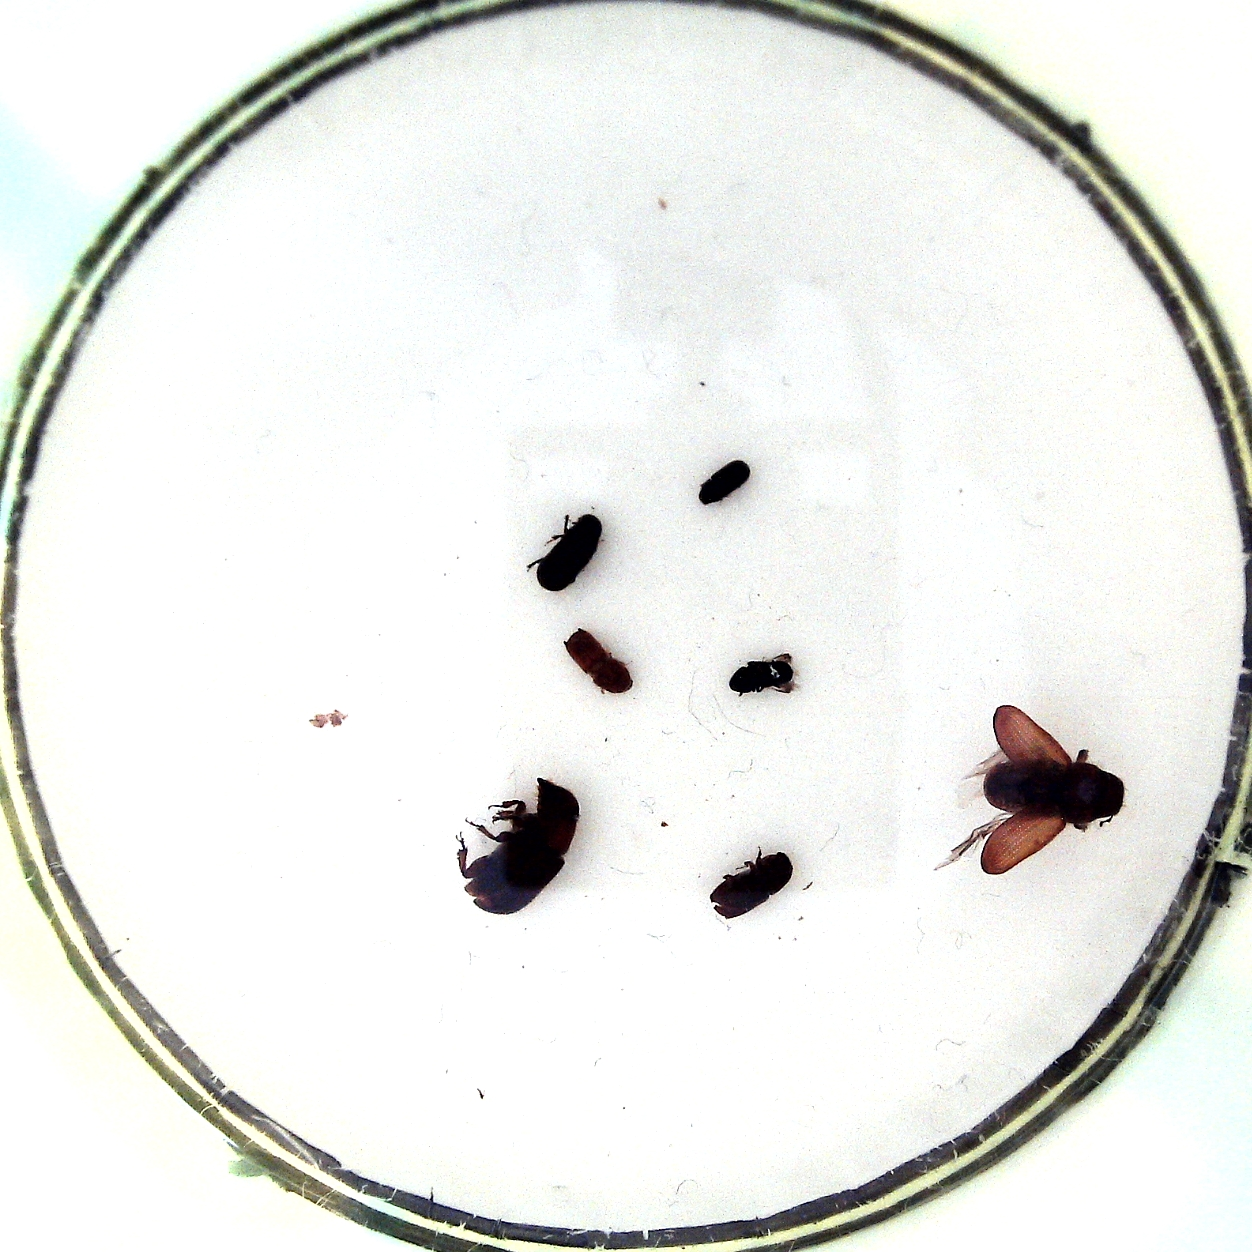Leconte: (950, 701, 1129, 873), (449, 772, 587, 916)
Linnaeus: (705, 847, 800, 921)
acuminatus: (562, 627, 639, 692)
armandi: (524, 512, 603, 593)
coleoptera: (729, 644, 803, 706), (692, 457, 757, 514)
